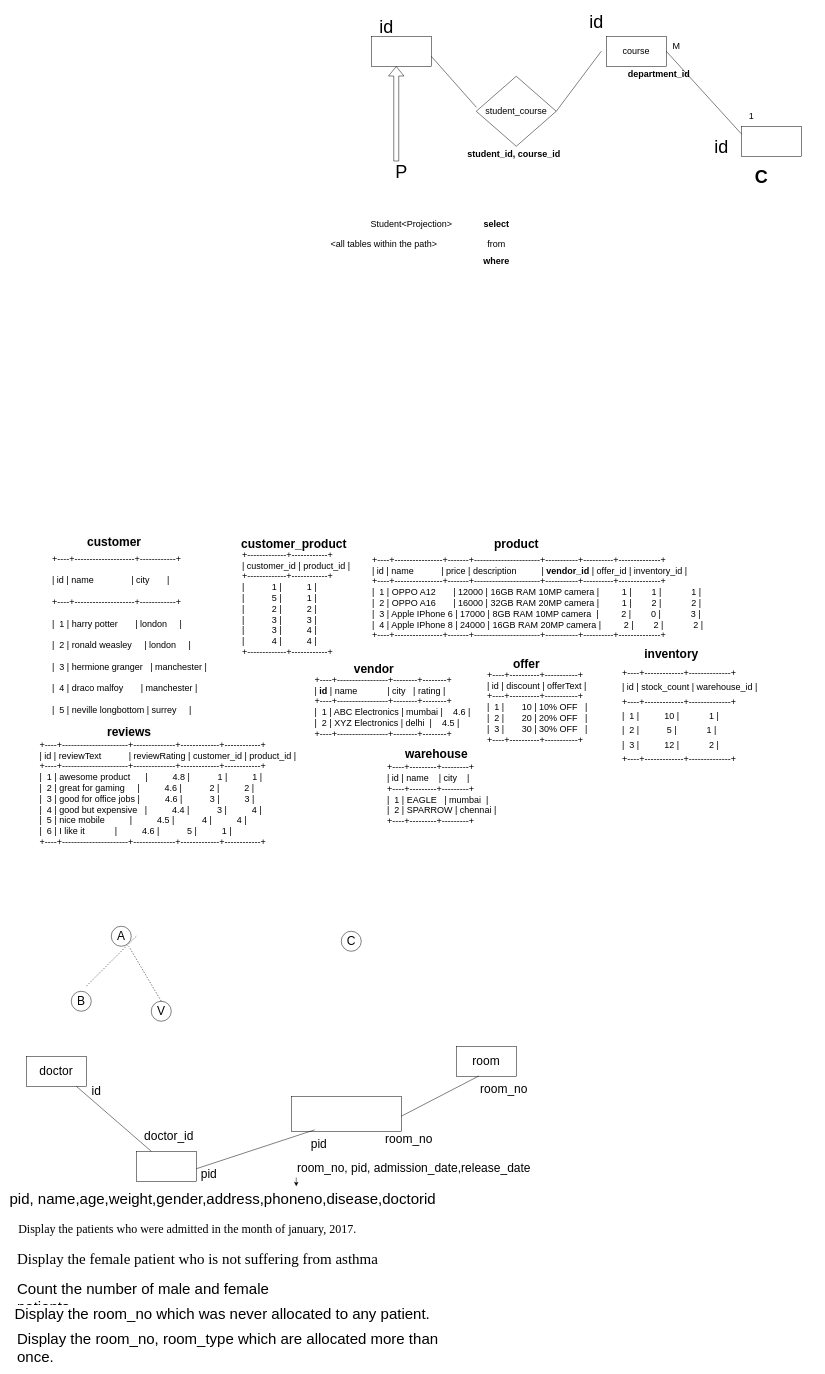
Image size: 825x1374. Some labels were removed from this diagram. The centre of each missing label's shape, as x and y in pixels:
department: the point at 771,141
patient: the point at 166,1166
room_allocation: the point at 346,1113
student: the point at 401,51
